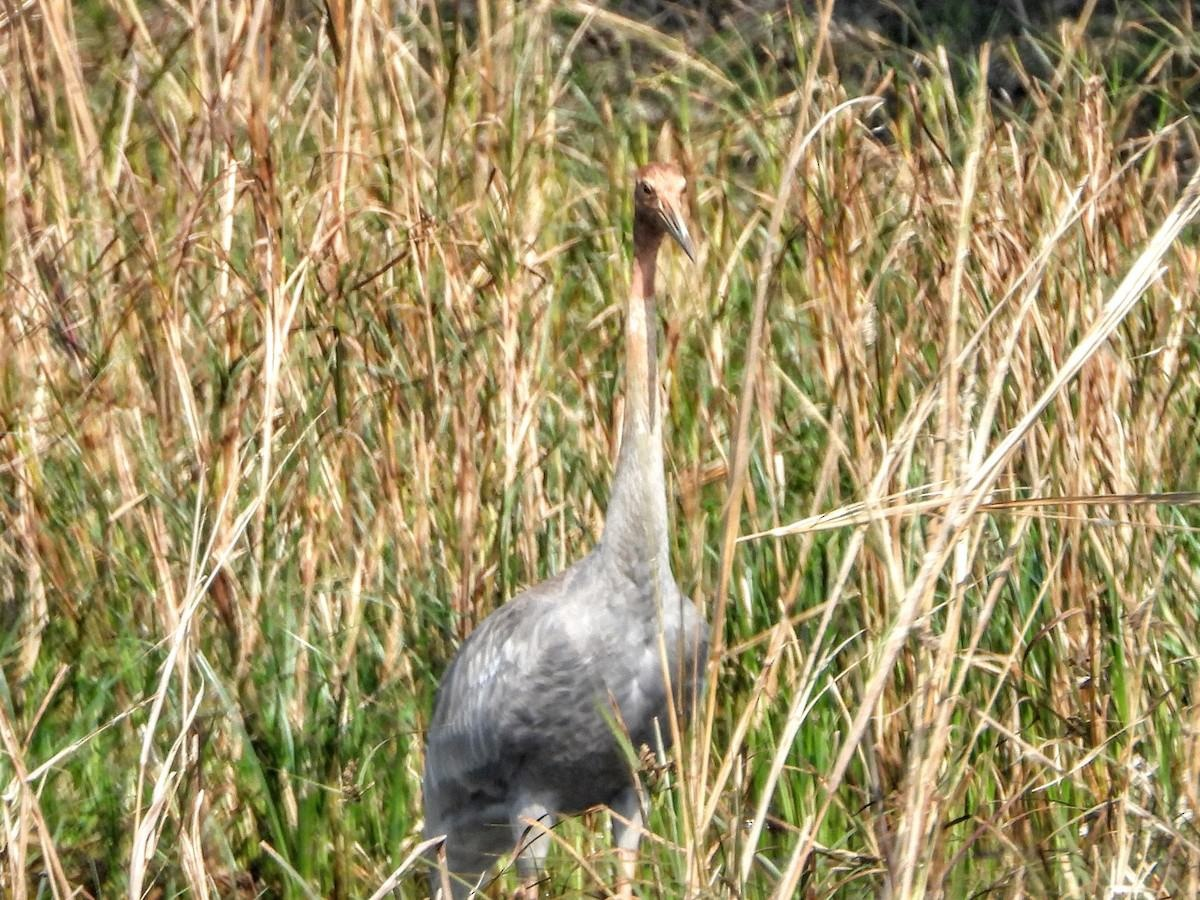crane: (436, 138, 739, 900)
